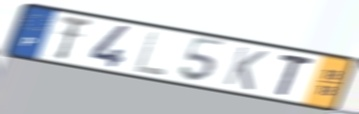4: (87, 23, 130, 70)
5: (177, 35, 231, 85)
K: (221, 44, 271, 93)
L: (131, 29, 170, 78)
T: (54, 14, 95, 62), (275, 52, 316, 99)
